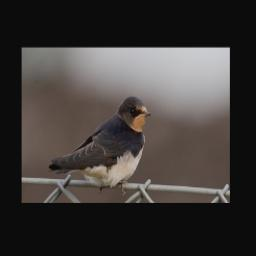Swallow: (47, 94, 152, 195)
